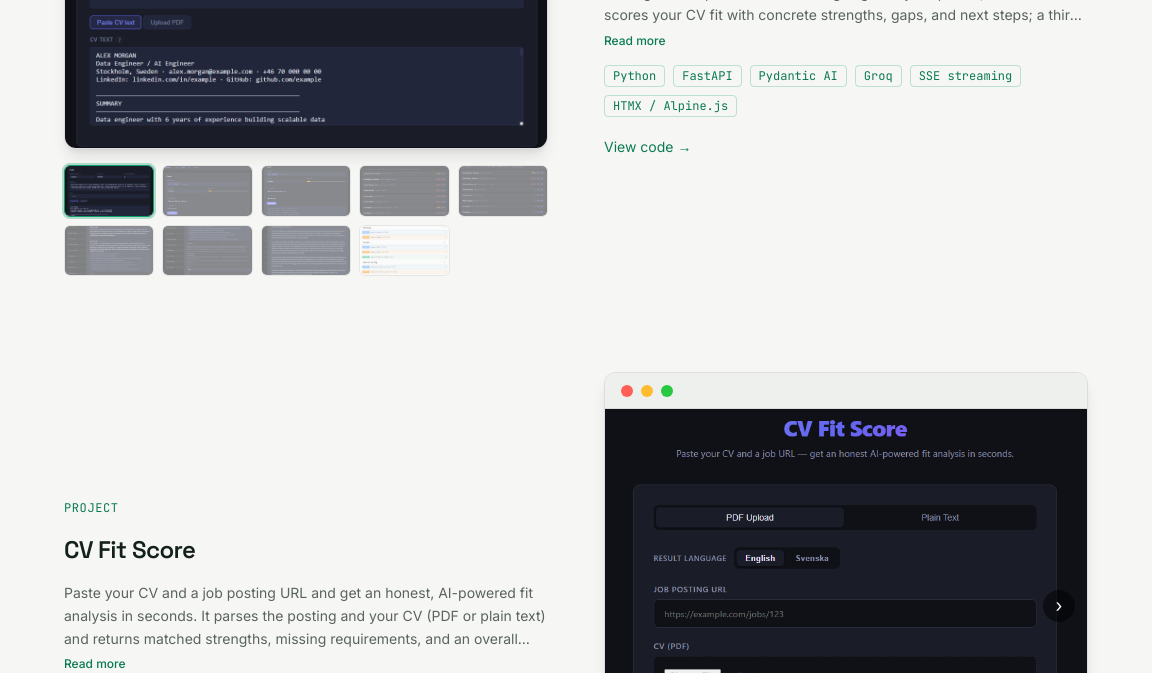
Scenario: ProjectShowcase › switches the hero image when a thumbnail is clicked
(page scrolled)
Click the button named "Show Job Radar screenshot 3" at (306, 191), box [261, 165, 351, 217]
(page scrolled)
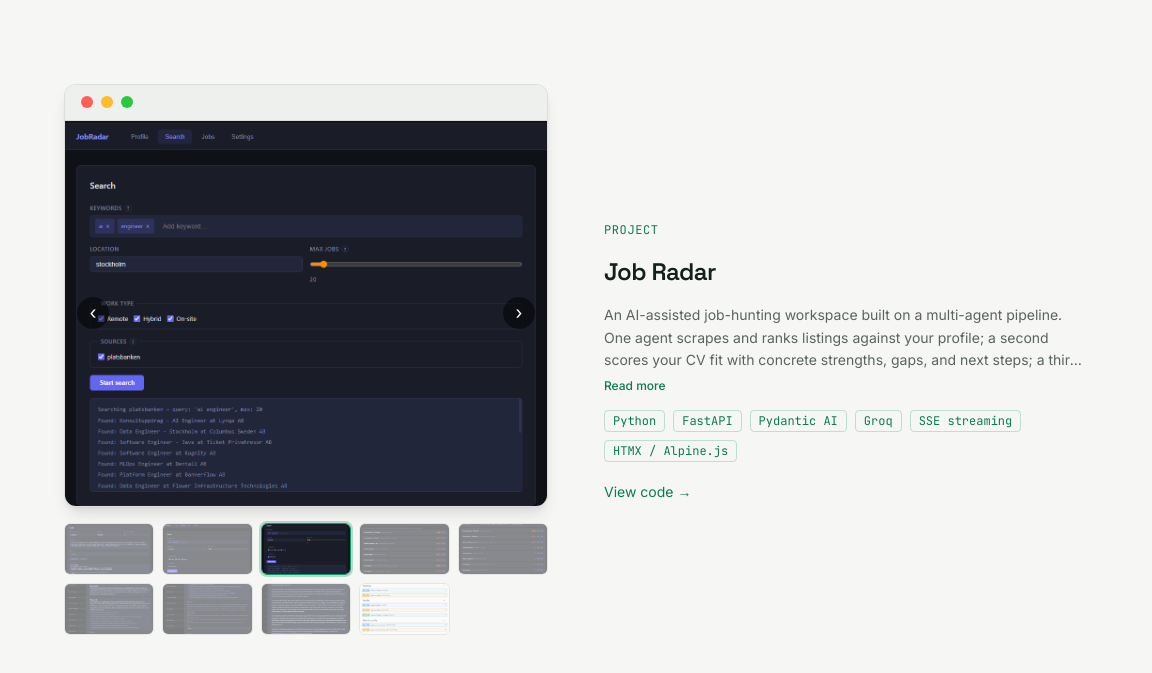
Now the button named "Enlarge Job Radar screenshot 3" is shown, box [65, 121, 547, 506]
